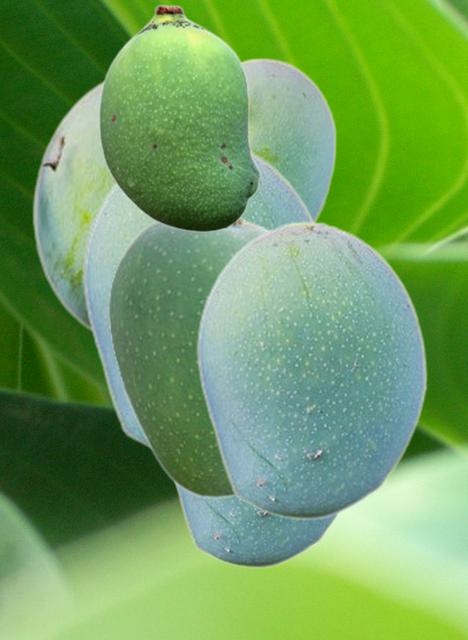green_mango: (81, 147, 317, 451), (195, 220, 427, 520), (108, 217, 271, 497), (98, 4, 260, 232), (31, 77, 113, 334), (241, 57, 336, 220), (171, 482, 343, 568)
